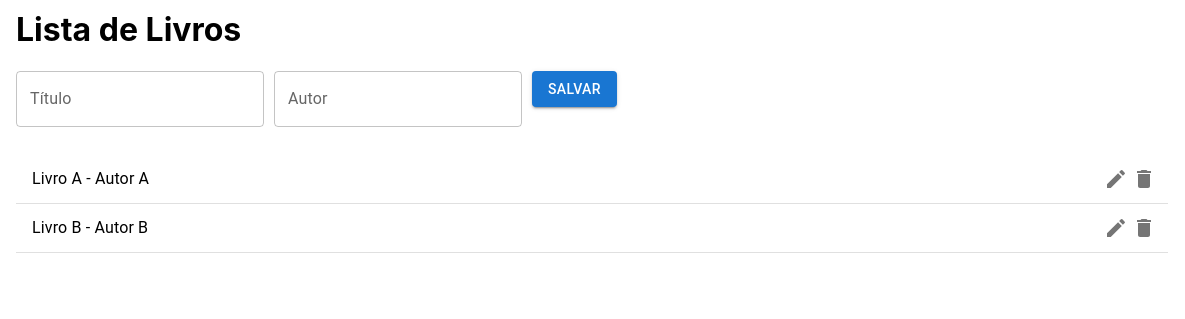
Test case: edits an existing book
The image size is (1185, 319).
# Adiciona um novo livro
Type "Livro C" into the field labelled "Título" at (140, 99), box [16,71,264,127]
Type "Autor C" into the field labelled "Autor" at (398, 99), box [274,71,522,127]
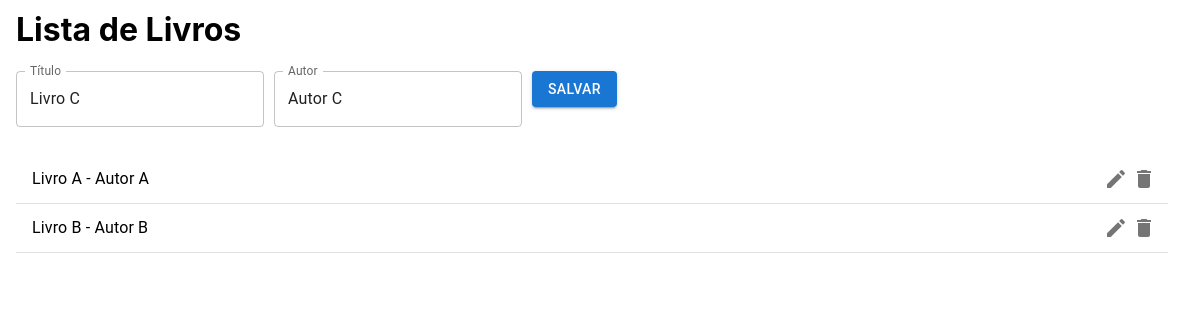
Click the button "Salvar" at (574, 89), box [532,71,617,107]
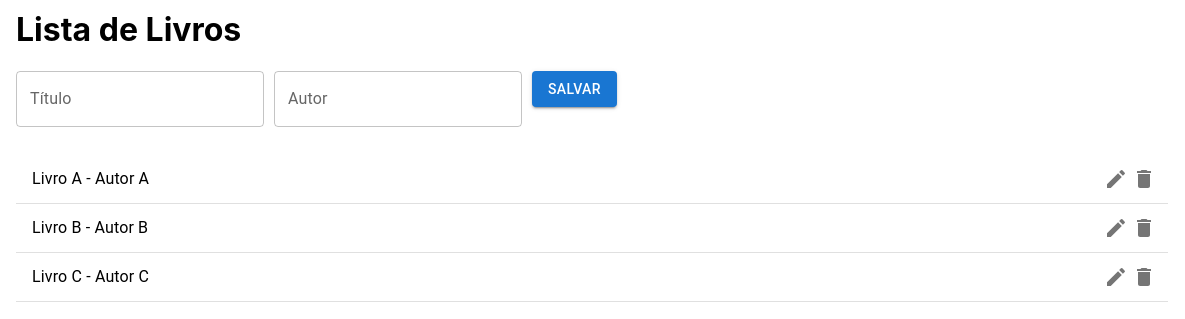
# Edita o livro adicionado
Click the button named "edit" in the row of "Livro A - Autor A" at (1116, 179), box [1096,159,1136,199]
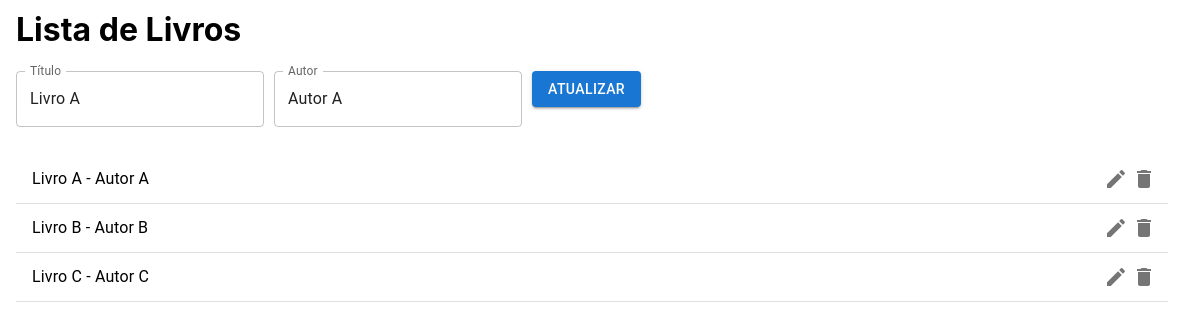
Replace the text in the field labelled "Título" with "Livro D" at (140, 99), box [16,71,264,127]
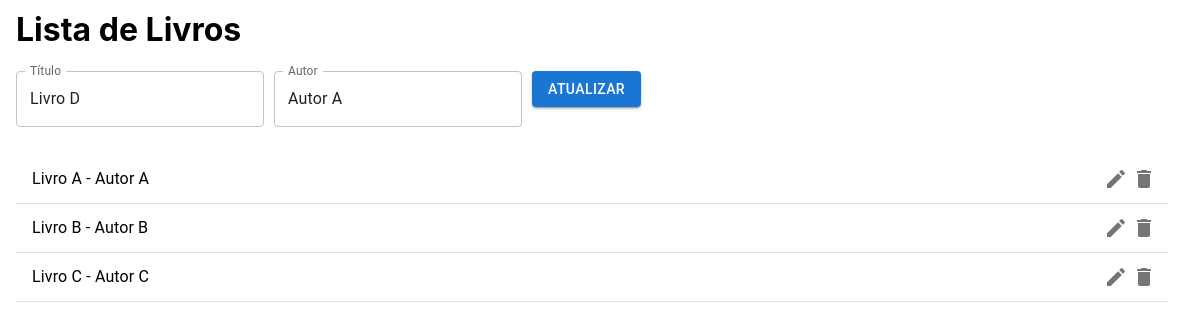
Replace the text in the field labelled "Autor" with "Autor D" at (398, 99), box [274,71,522,127]
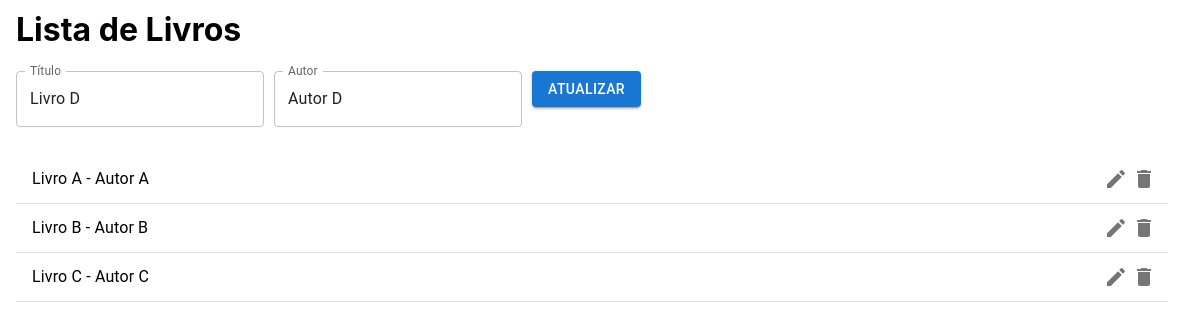
Click the button "Atualizar" at (586, 89), box [532,71,641,107]
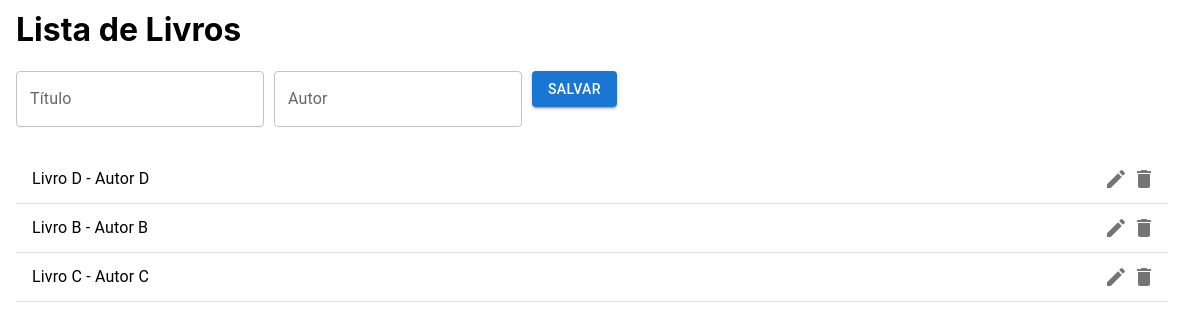
Check: the text "Livro D - Autor D" is shown, box [32,169,149,188]
